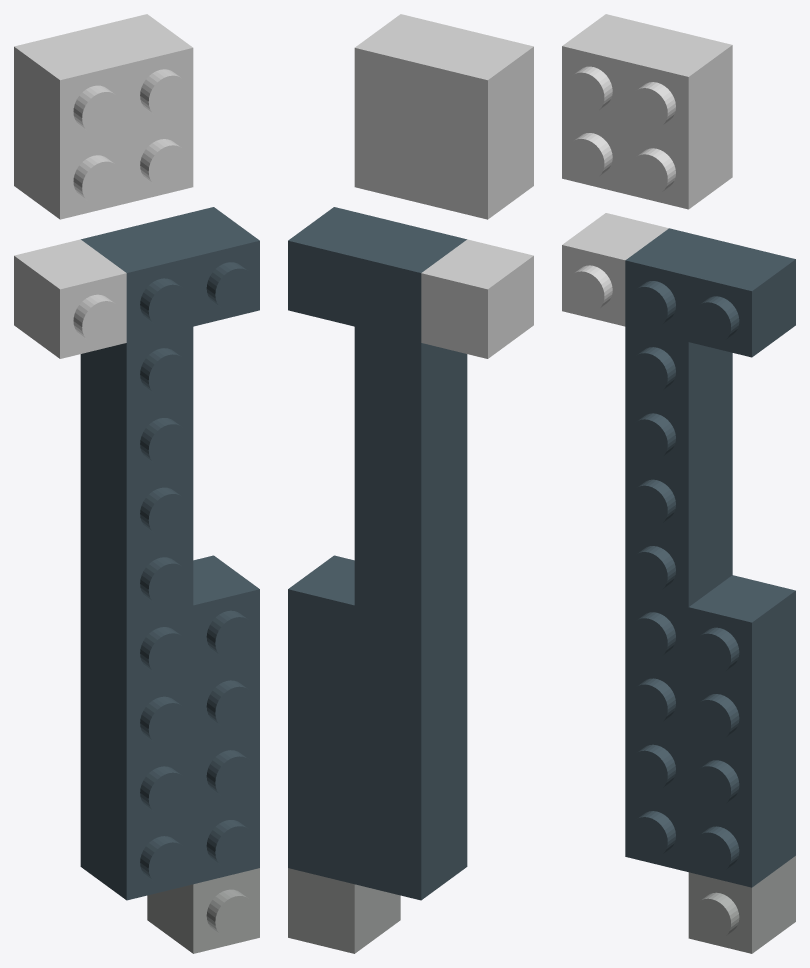
The model's file is current.glb.
The picture shows the model from 3 angles, left to right: view 1: azimuth 30°, elevation 25°; view 2: azimuth 150°, elevation 25°; view 3: azimuth 330°, elevation 25°; orthographic projection. The views are drawn at different scales.
Parts seen in each view (by area): view 1: world; view 2: world; view 3: world.
Boxes of the visible parts, <box> form: world: <box>14,14,259,953</box>; world: <box>288,14,533,953</box>; world: <box>562,14,795,953</box>.
Size of the model in its own units: 24 by 104 by 11.4.
